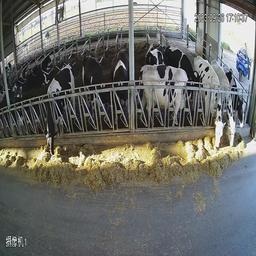cow: (36, 55, 79, 162), (140, 62, 194, 132), (110, 40, 149, 129), (194, 54, 226, 149), (213, 60, 240, 147), (82, 48, 106, 123), (225, 64, 248, 130), (154, 38, 191, 74)
